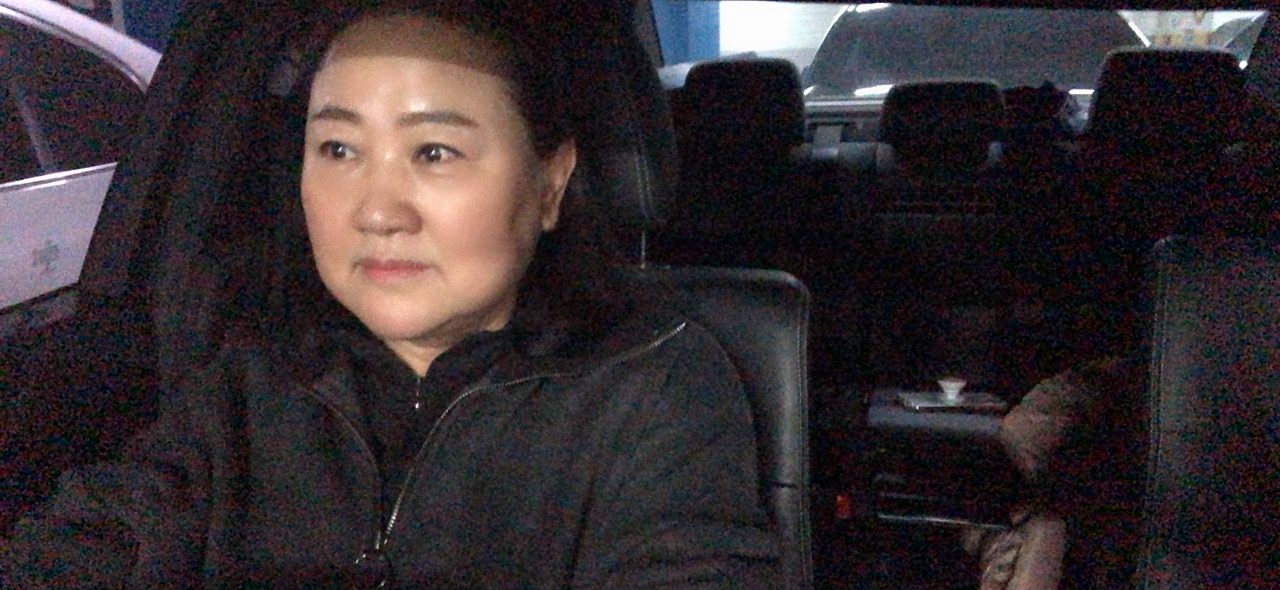front: (218, 31, 635, 415)
